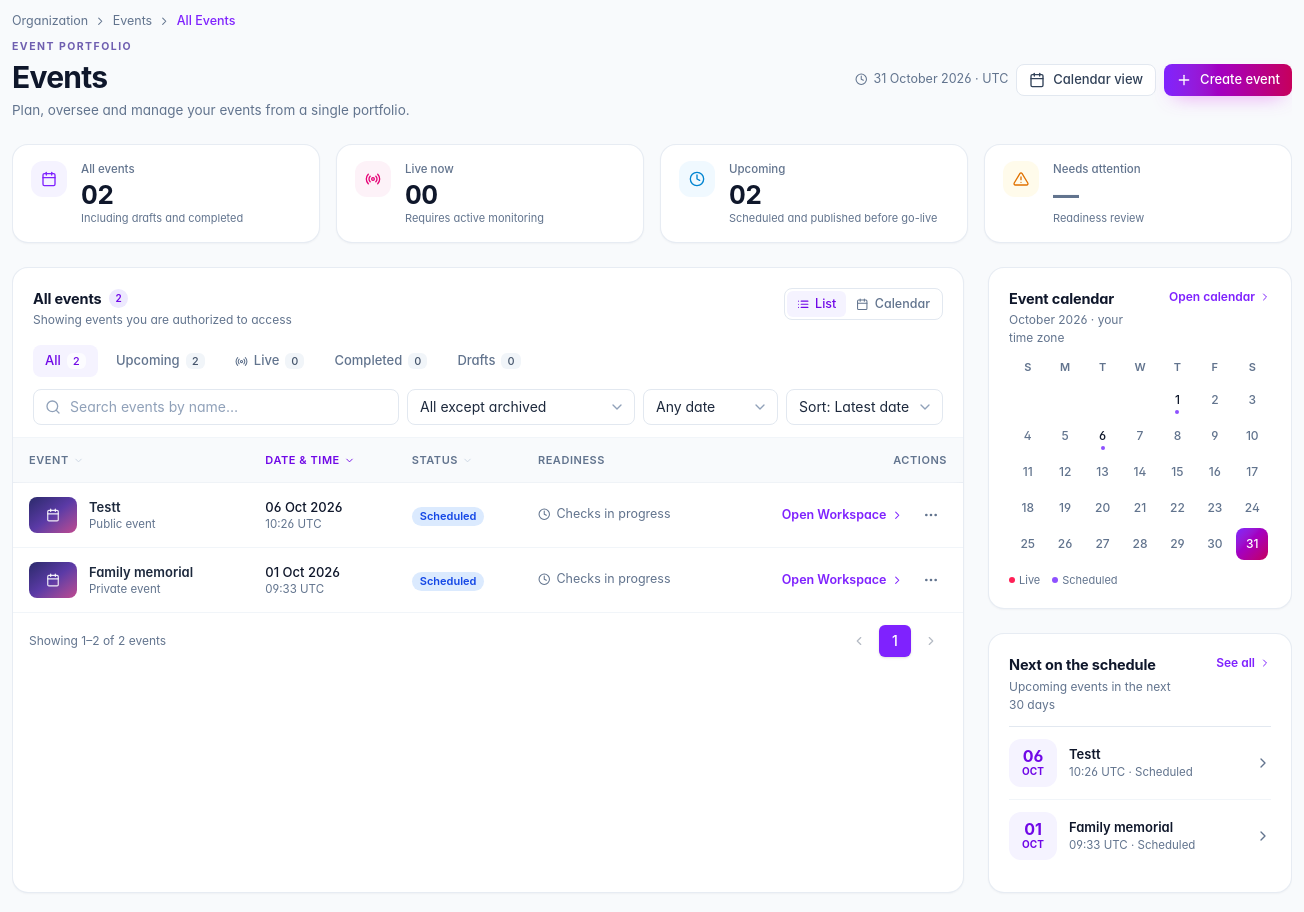
Test: the Events table columns › is a viewer link for private events too, not only public ones
Check: the button "Family memorial" is shown, box [89,563,193,582]
Click the button named "More actions for Family memorial". click: coordinates (931, 580)
box: [915,564,947,596]
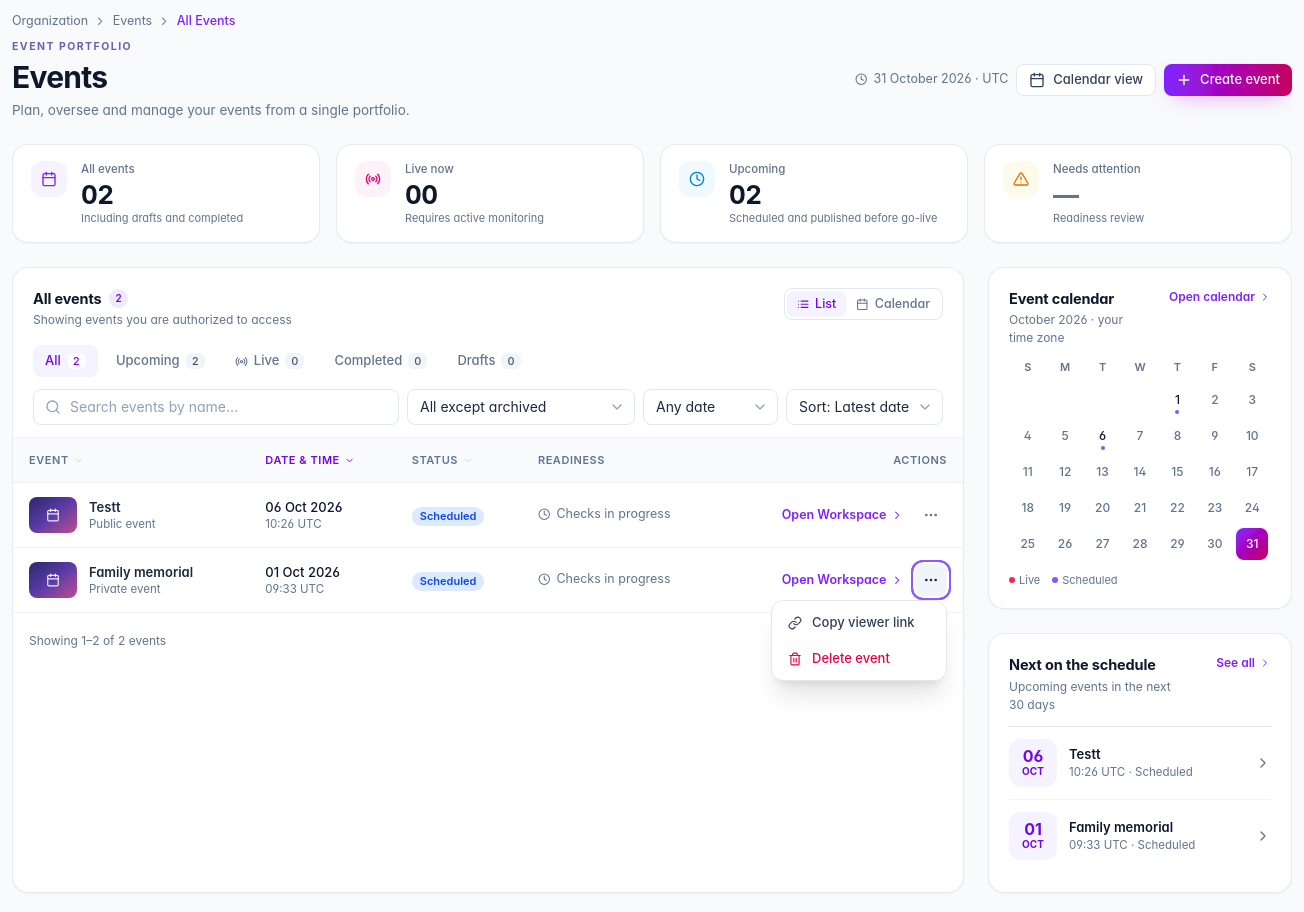
Check: the menu item "Copy viewer link" is shown, box [776,605,942,641]
